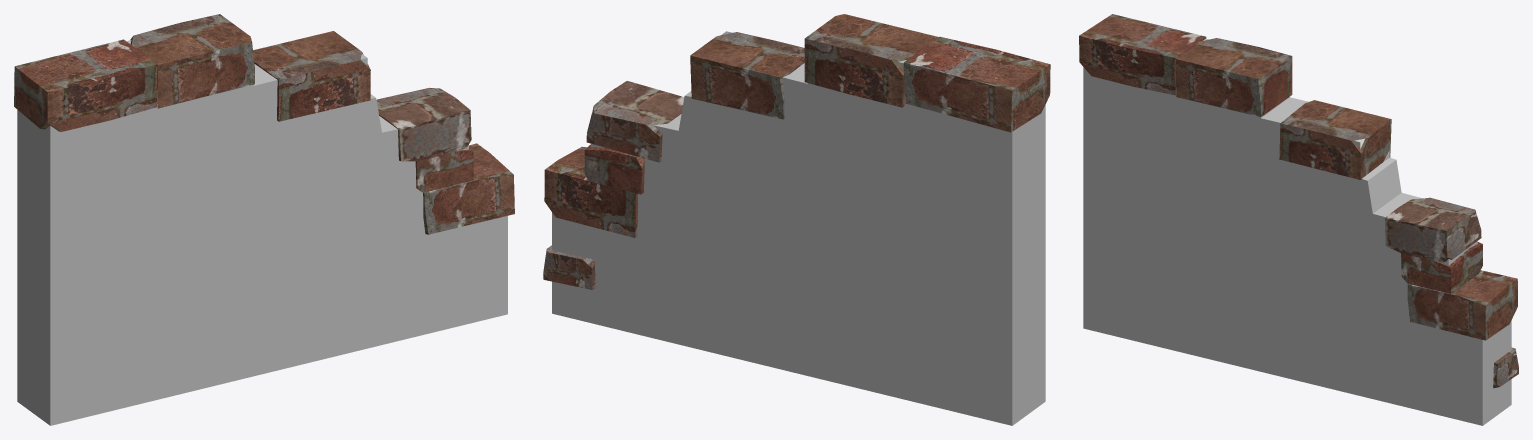
File: SM_Wall_Ruined_29.fbx
3 views of the same model, side by side, from view 1: azimuth 30°, elevation 25°; view 2: azimuth 150°, elevation 25°; view 3: azimuth 330°, elevation 25° (orthographic). The views are drawn at different scales.
Parts seen in each view (by area): view 1: SM_Wall_Ruined_29_LOD0; view 2: SM_Wall_Ruined_29_LOD0; view 3: SM_Wall_Ruined_29_LOD0.
Part boxes in pixels (x1,y1,x2,y2): SM_Wall_Ruined_29_LOD0: (14, 14, 514, 425); SM_Wall_Ruined_29_LOD0: (543, 14, 1050, 425); SM_Wall_Ruined_29_LOD0: (1079, 14, 1518, 425).
Size of what is drawn, in the model's own units: 408 by 282 by 57.73.
